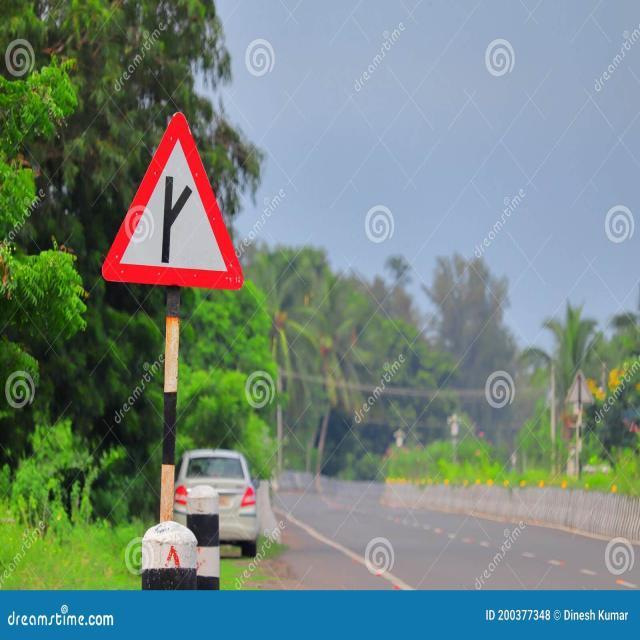y intersection: (99, 110, 247, 290)
